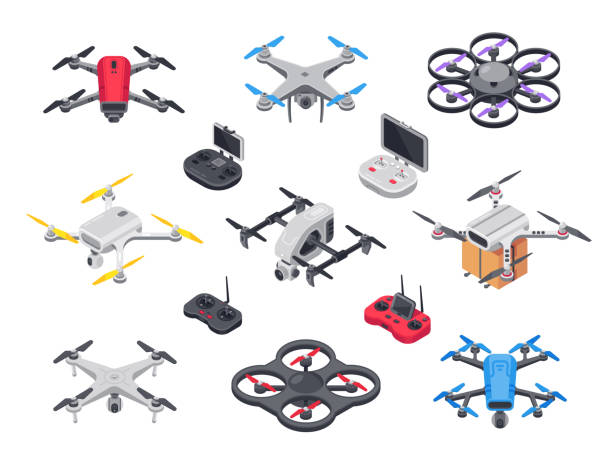Drone: (27, 170, 202, 287), (421, 171, 595, 272), (227, 185, 388, 285), (232, 337, 382, 434), (423, 28, 564, 128), (435, 330, 572, 429), (48, 334, 180, 427), (40, 40, 184, 122), (239, 33, 369, 123)
